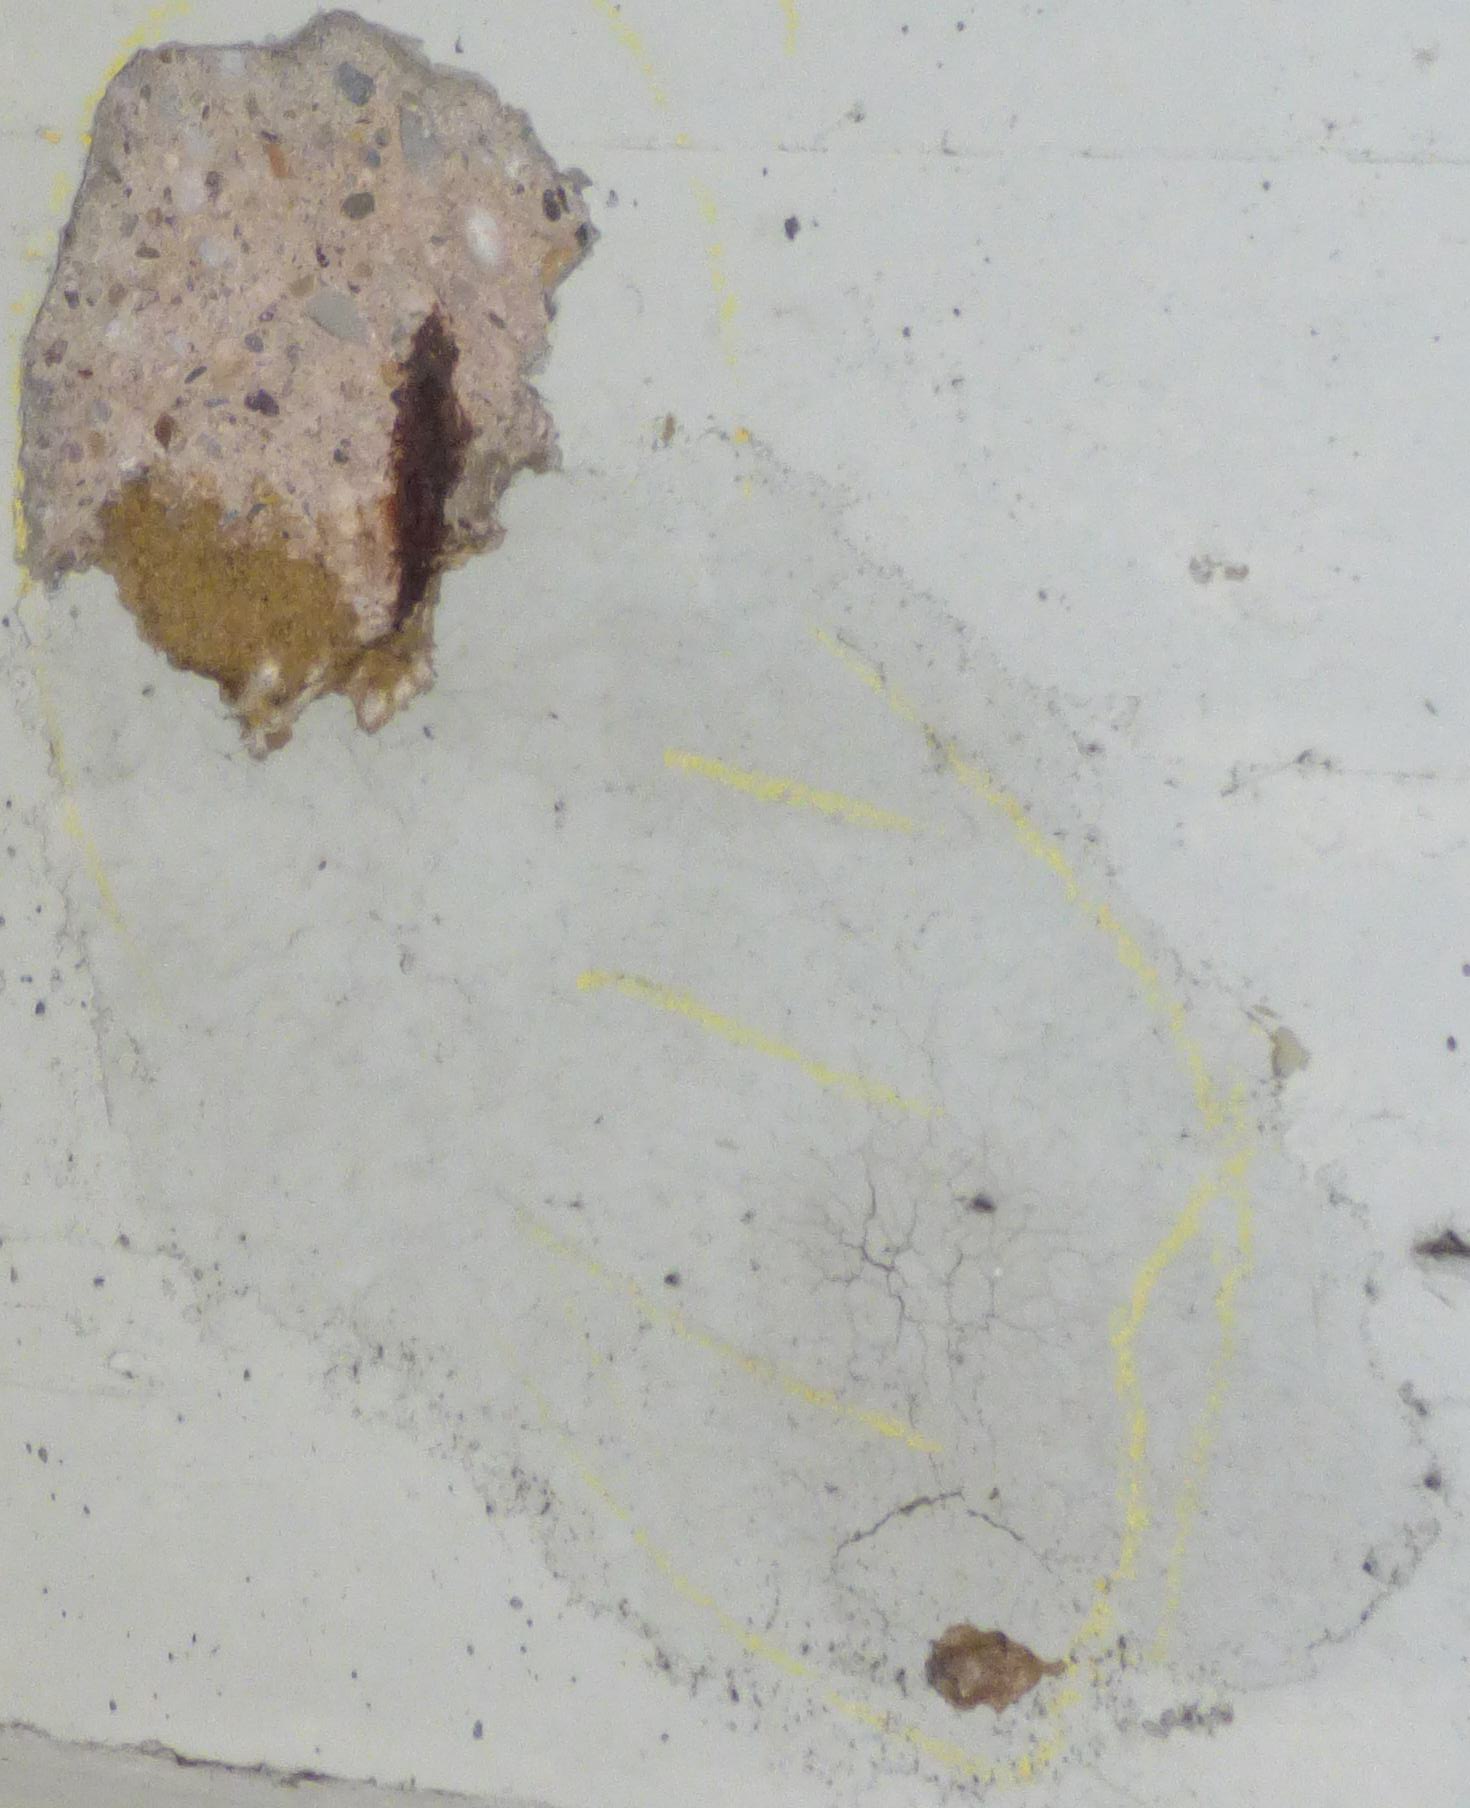Exposed reinforcement: (388, 314, 474, 636)
Spalling: (13, 8, 604, 764), (924, 1623, 1066, 1718)
